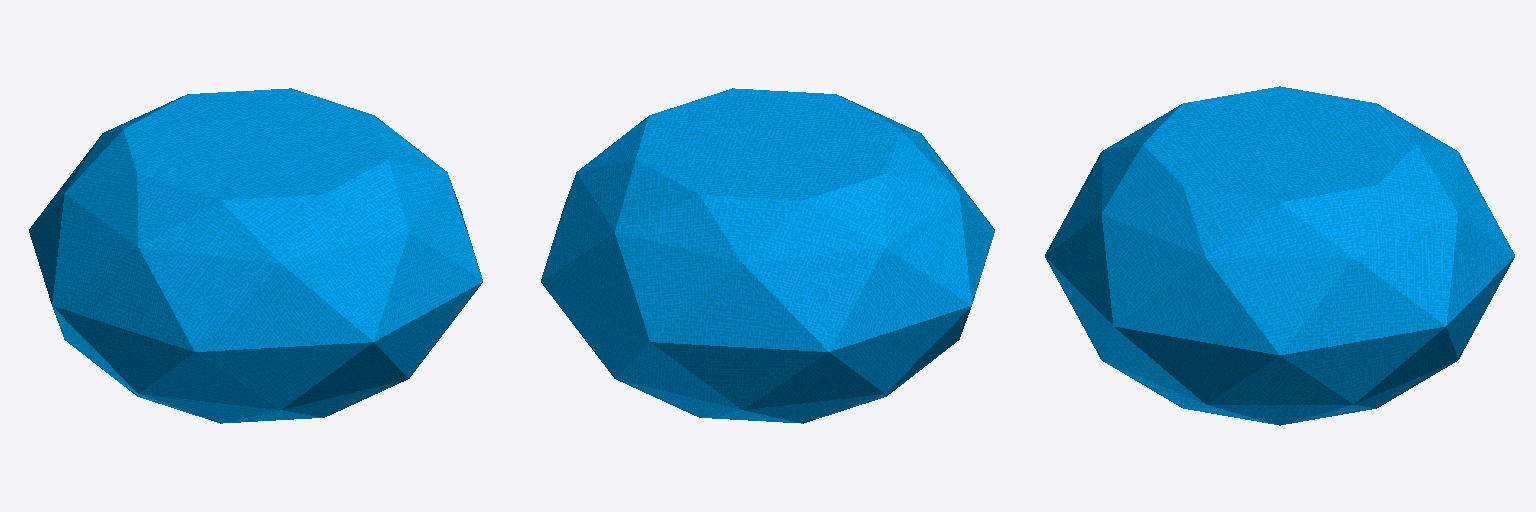
The picture shows the model from 3 angles: view 1: azimuth 30°, elevation 25°; view 2: azimuth 150°, elevation 25°; view 3: azimuth 270°, elevation 25°; orthographic projection.
Visible parts, largest first — view 1: world_root.006; view 2: world_root.006; view 3: world_root.006.
Boxes of the visible parts, <box> form: world_root.006: <box>29,88,482,423</box>; world_root.006: <box>541,88,994,423</box>; world_root.006: <box>1045,86,1514,425</box>.
Size of the model in its own units: 944 by 494 by 944.
Materials: 3 (3 with a texture image).